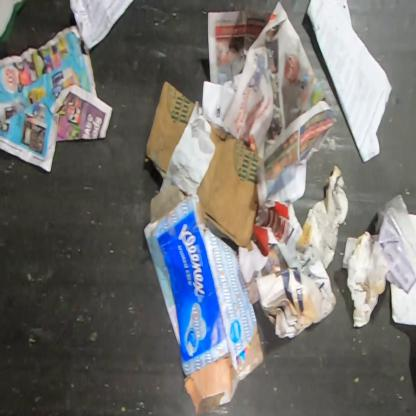cardboard: (143, 194, 264, 414), (196, 122, 264, 252), (146, 81, 195, 174)
soft_plastic: (372, 194, 415, 295)
